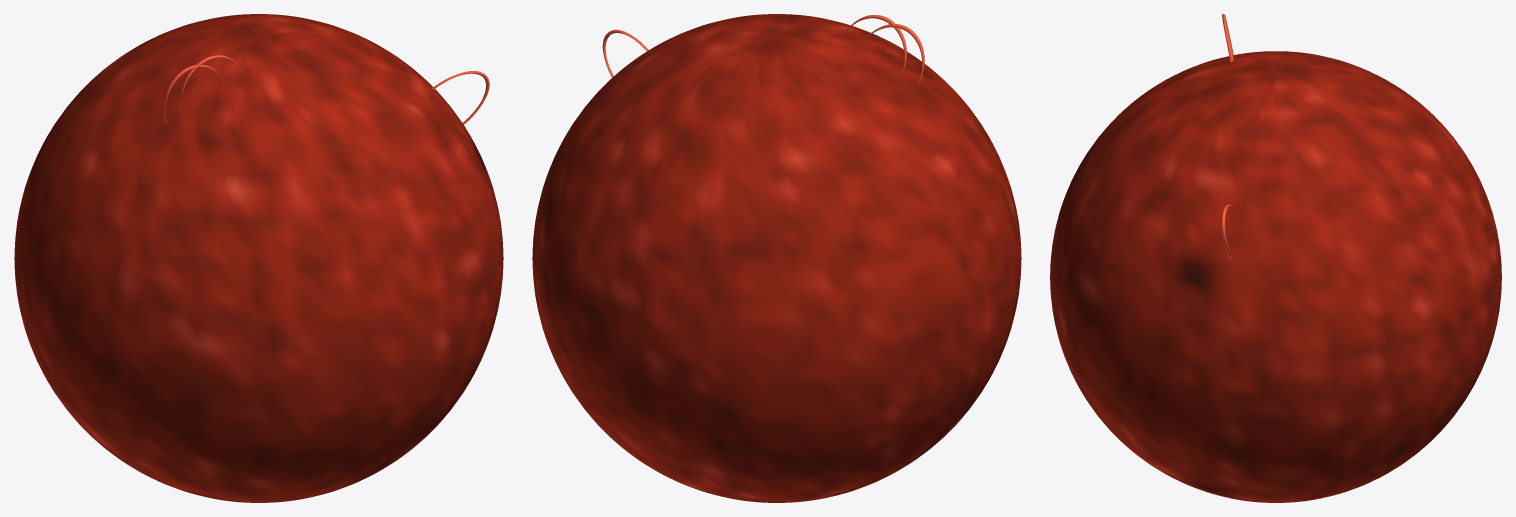
Rendered from Star_06.fbx.
The picture shows the model from 3 angles, left to right: view 1: azimuth 30°, elevation 25°; view 2: azimuth 150°, elevation 25°; view 3: azimuth 270°, elevation 25°; orthographic projection. The views are drawn at different scales.
Parts seen in each view (by area): view 1: Star_06; view 2: Star_06; view 3: Star_06.
Boxes of the visible parts, x1,y1,x2,y2 form: Star_06: [14, 14, 503, 502]; Star_06: [532, 14, 1021, 502]; Star_06: [1050, 14, 1501, 502].
Size of the model in its own units: 200 by 209 by 200.
